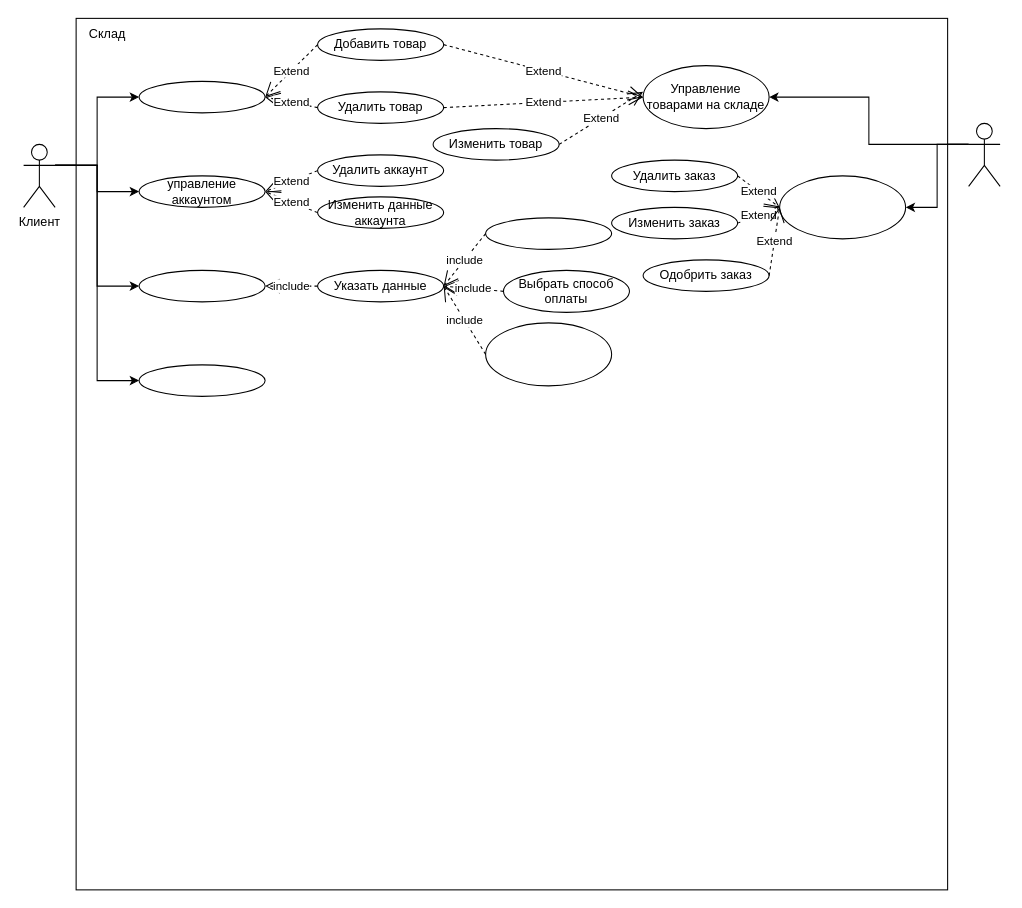
The diagram is 1022 pixels wide and 908 high, and some of its shapes have lost their labels. The box of each missing label's shape, as (x1, y1, x2, y2) in pixels:
Админ: (968, 122, 1000, 186)
Выбрать способ доставки(курьер, самовывоз): (485, 322, 612, 386)
Оформление доставки: (138, 269, 265, 302)
Просмотр товара на складе: (138, 364, 265, 396)
Указать адрес: (485, 217, 612, 249)
Управление заказом: (779, 175, 906, 239)
управление корзиной: (138, 80, 265, 113)
